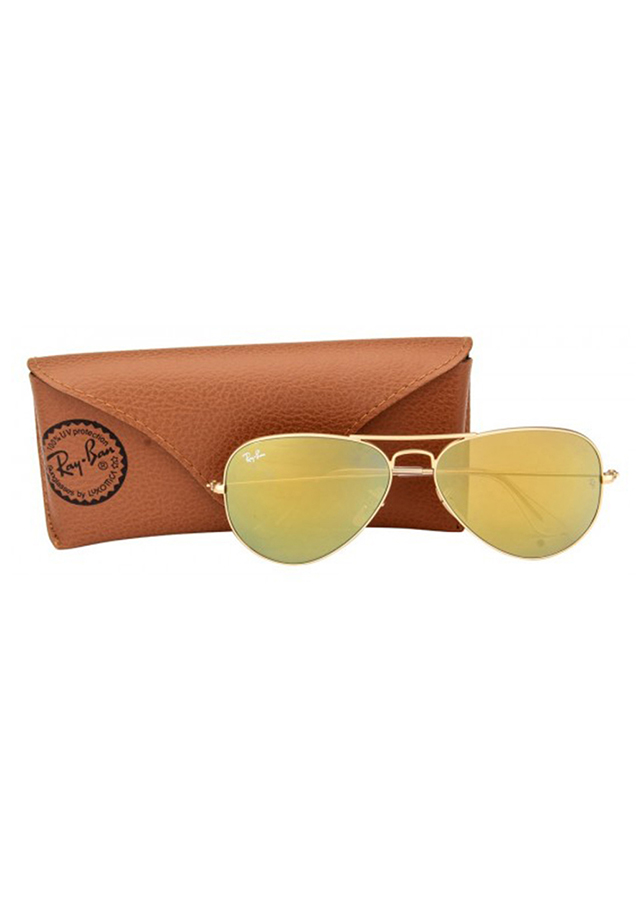Rayban: (44, 430, 123, 484), (236, 440, 269, 472)
